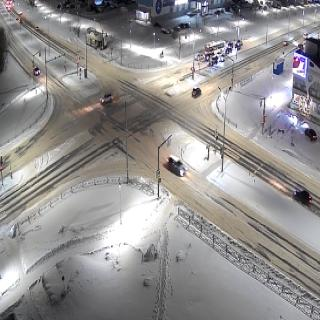large-vehicle: (205, 40, 226, 61)
small-vehicle: (166, 156, 187, 176), (294, 189, 311, 205), (305, 128, 317, 141), (100, 93, 112, 104), (209, 55, 218, 66), (192, 88, 201, 96), (195, 53, 205, 60), (34, 67, 40, 75), (237, 40, 242, 49), (219, 54, 224, 61), (228, 42, 233, 47)
